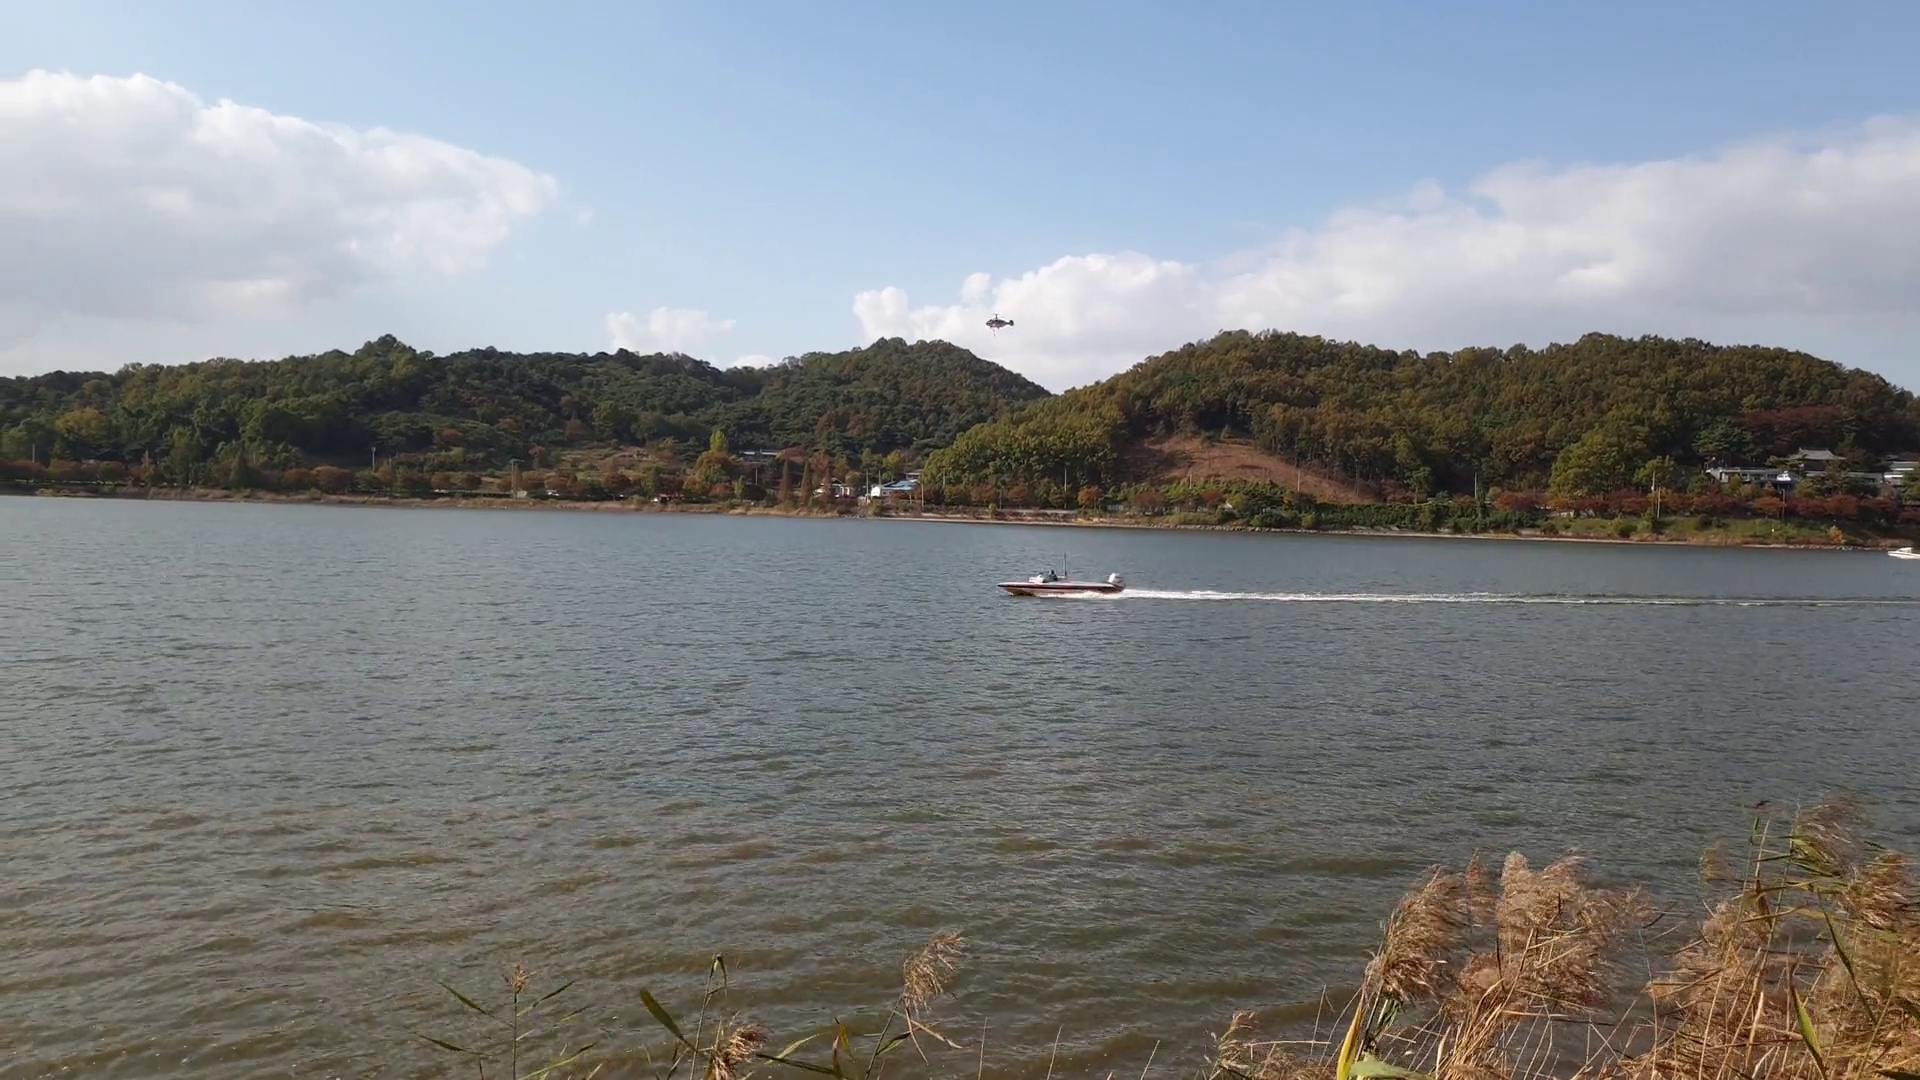heli: (985, 313, 1013, 332)
